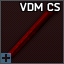AK Kiba Arms VDM CS gas tube: (0, 0, 64, 64)
